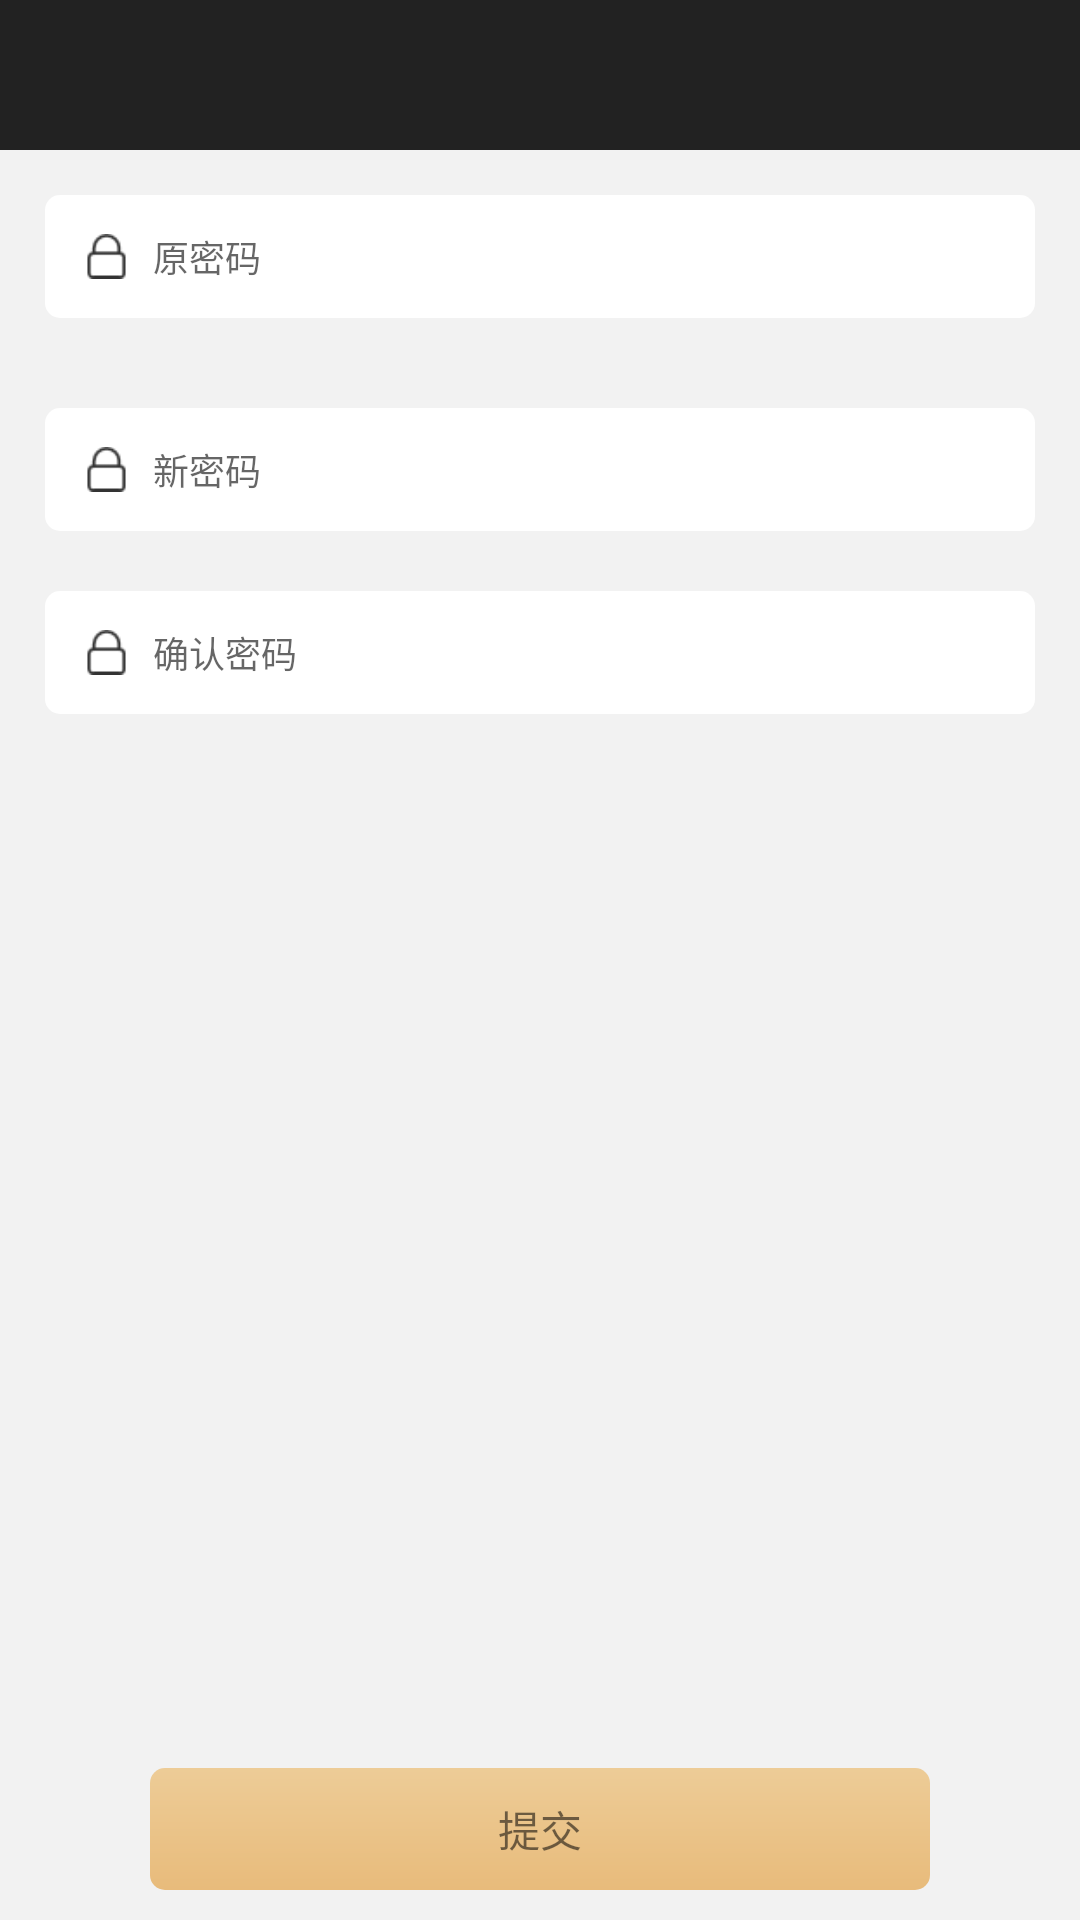

Locate icon controls on the screen. Image size 1080px×1920px, boxes as (x1=x1, y1=y1, x2=x2, y2=y2).
password: (x1=87, y1=234, x2=126, y2=279), (x1=87, y1=447, x2=126, y2=492), (x1=87, y1=630, x2=126, y2=675)
